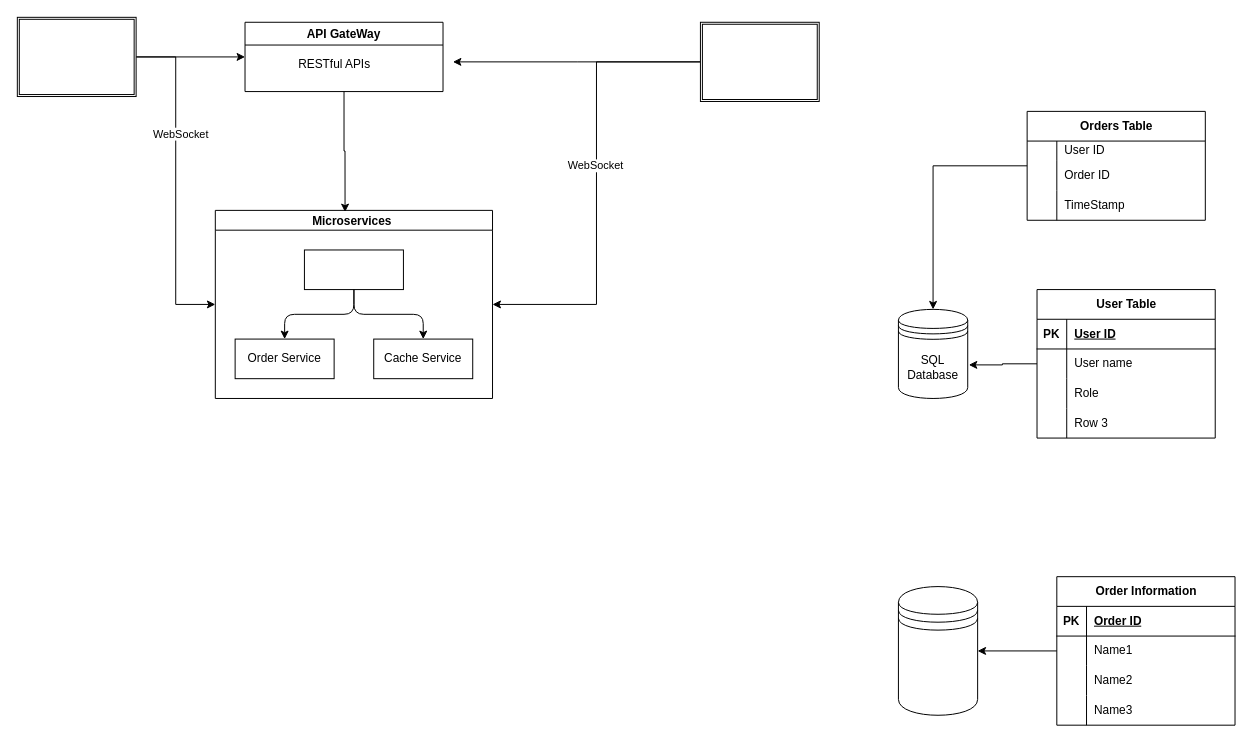
Some shapes in this 1252 by 743 pixel diagram are drawn without their labels. Each missing label, with the centre of its shape:
Leader service: the point at 353,269
Mobile Clients: the point at 759,61
Non SQL Database: the point at 937,650
Web Clients: the point at 76,56
